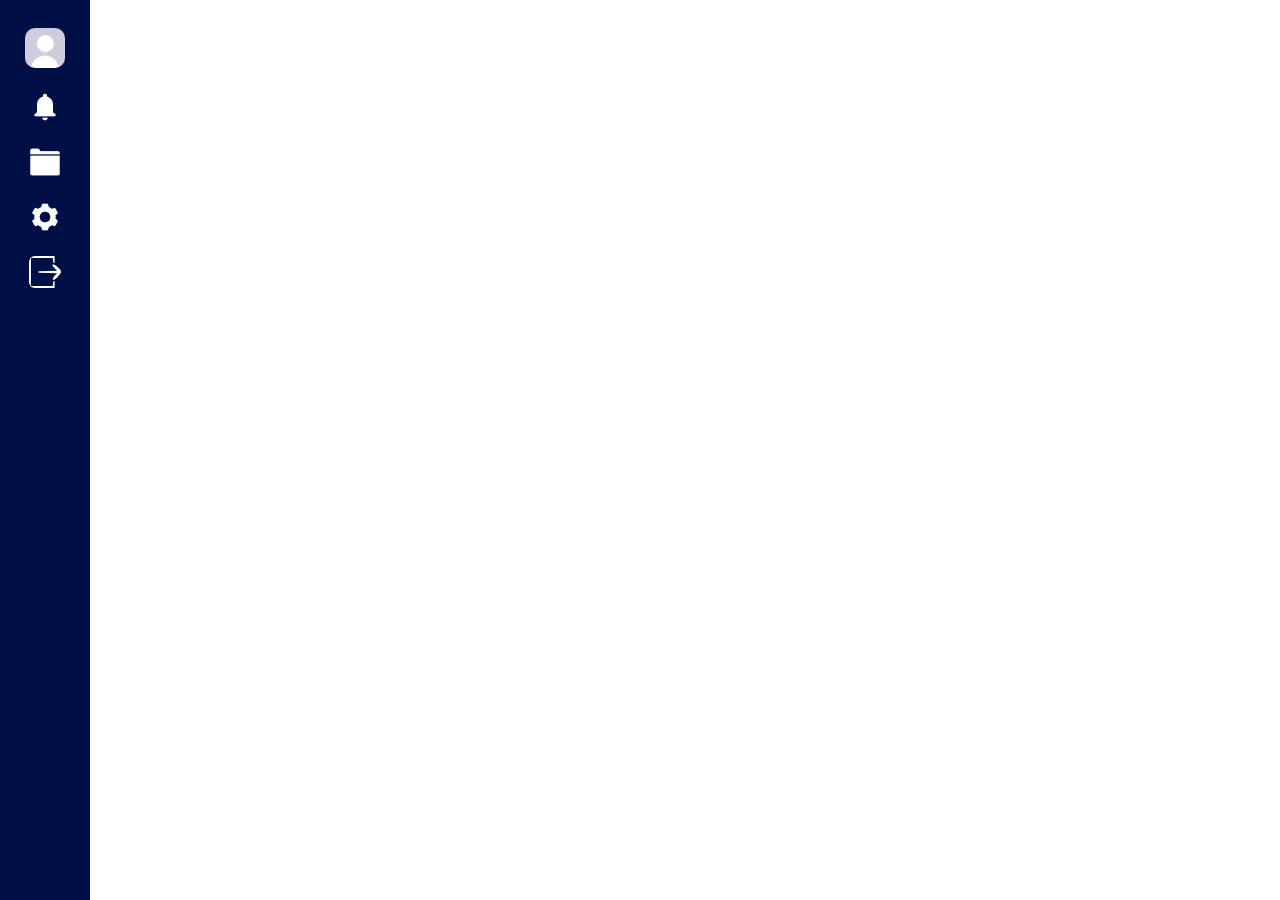
Test case: Sidebar › Profile opens the Profile PopUp
This screenshot has width=1280, height=900.
Click the 1st button named "profile" at (45, 50), box [25, 28, 65, 71]
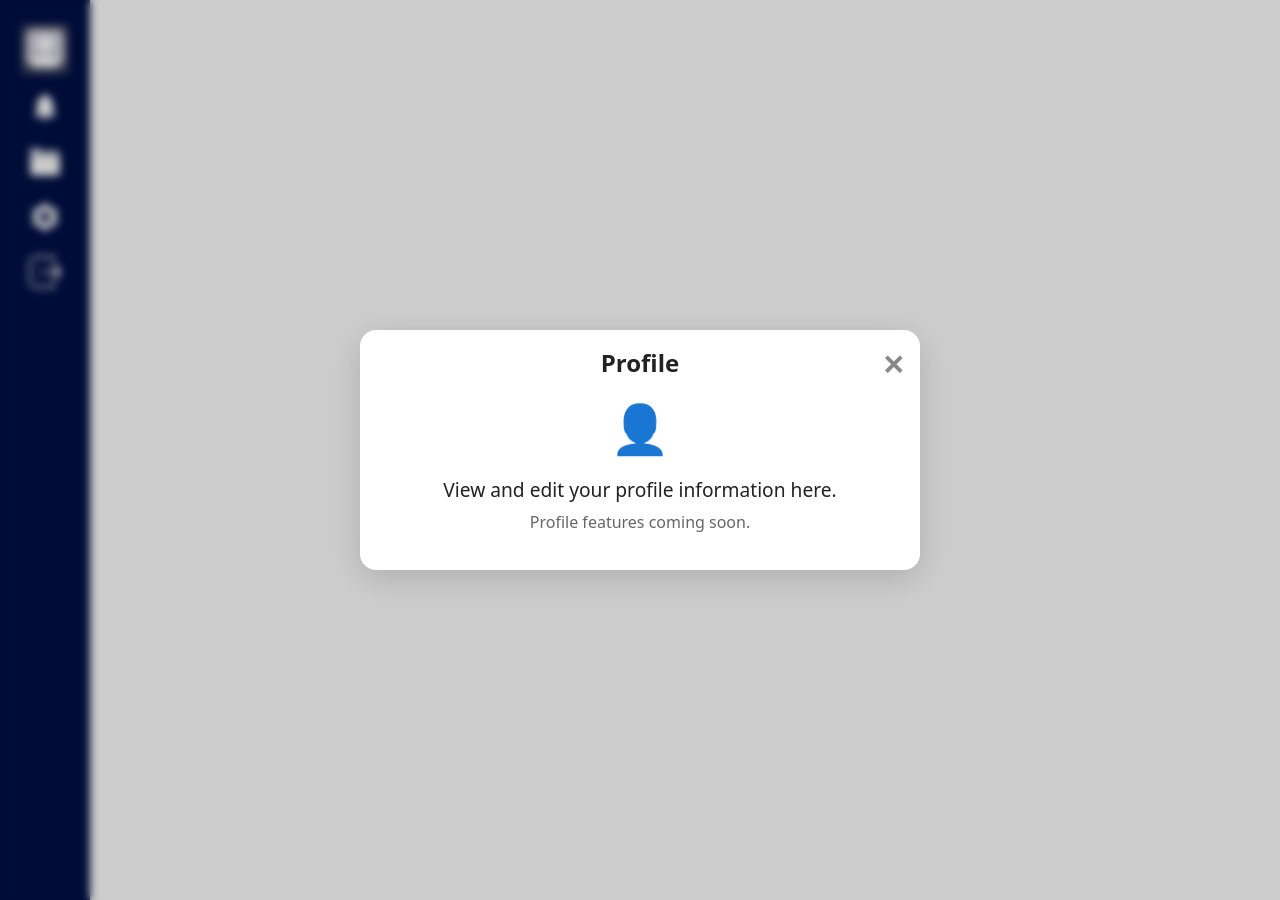
Now the text "Profile" is shown, box [601, 346, 679, 379]
Now the text "View and edit your profile information here." is shown, box [443, 476, 837, 503]
